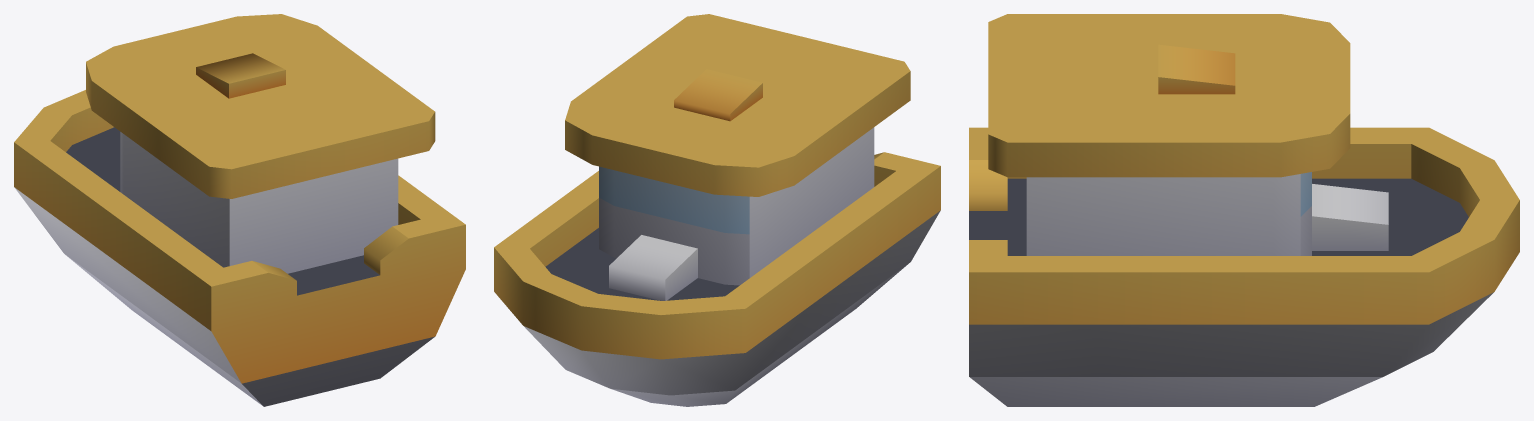
File: boat_6.fbx
3 renders of one model, left to right at view 1: azimuth 30°, elevation 25°; view 2: azimuth 150°, elevation 25°; view 3: azimuth 270°, elevation 25°, orthographic. The views are drawn at different scales.
Parts seen in each view (by area): view 1: boat-tug-c; view 2: boat-tug-c; view 3: boat-tug-c.
Boxes of the visible parts, left/top/right/bottom form: boat-tug-c: left=14, top=14, right=465, bottom=406; boat-tug-c: left=494, top=14, right=940, bottom=406; boat-tug-c: left=969, top=14, right=1519, bottom=406.
Size of the model in its own units: 0.622 by 0.6272 by 1.
